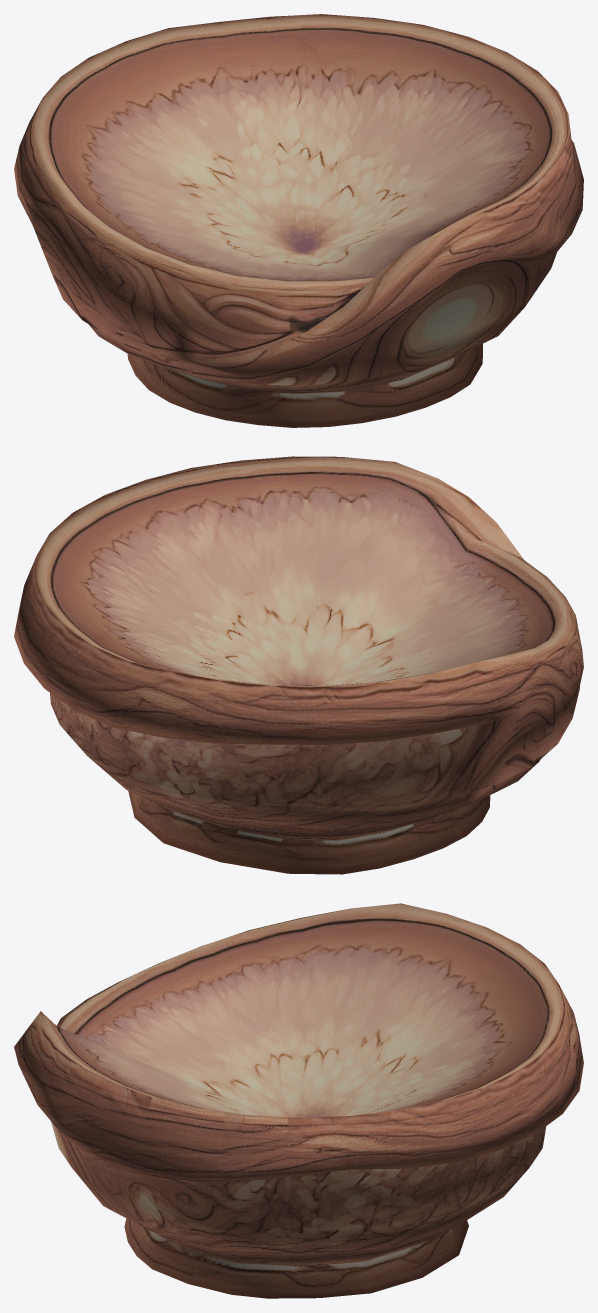
Rendered from nest.glb.
3 views of the same model, one above another, from view 1: azimuth 30°, elevation 25°; view 2: azimuth 150°, elevation 25°; view 3: azimuth 270°, elevation 25° (orthographic). The views are drawn at different scales.
Parts seen in each view (by area): view 1: Nest; view 2: Nest; view 3: Nest.
Boxes of the visible parts, box(x1,y1,x2,y2) form: Nest: box(14, 14, 583, 427); Nest: box(14, 456, 583, 874); Nest: box(14, 903, 583, 1298).
Size of what is drawn, in the model's own units: 3.32 by 1.46 by 3.45.
1 material, 1 textured.
